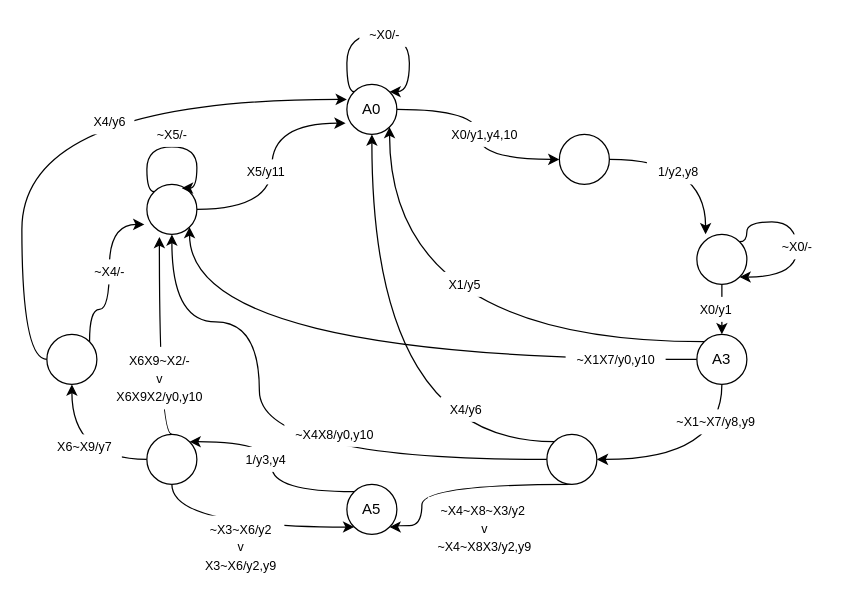
The diagram is 844 pixels wide and 599 high, and some of its shapes have lost their labels. Each missing label, with the centre of its shape:
"A1" goes at point 583,158.
"A2" goes at point 721,258.
"A4" goes at point 571,458.
"A6" goes at point 171,458.
"A7" goes at point 71,358.
"A8" goes at point 171,208.
